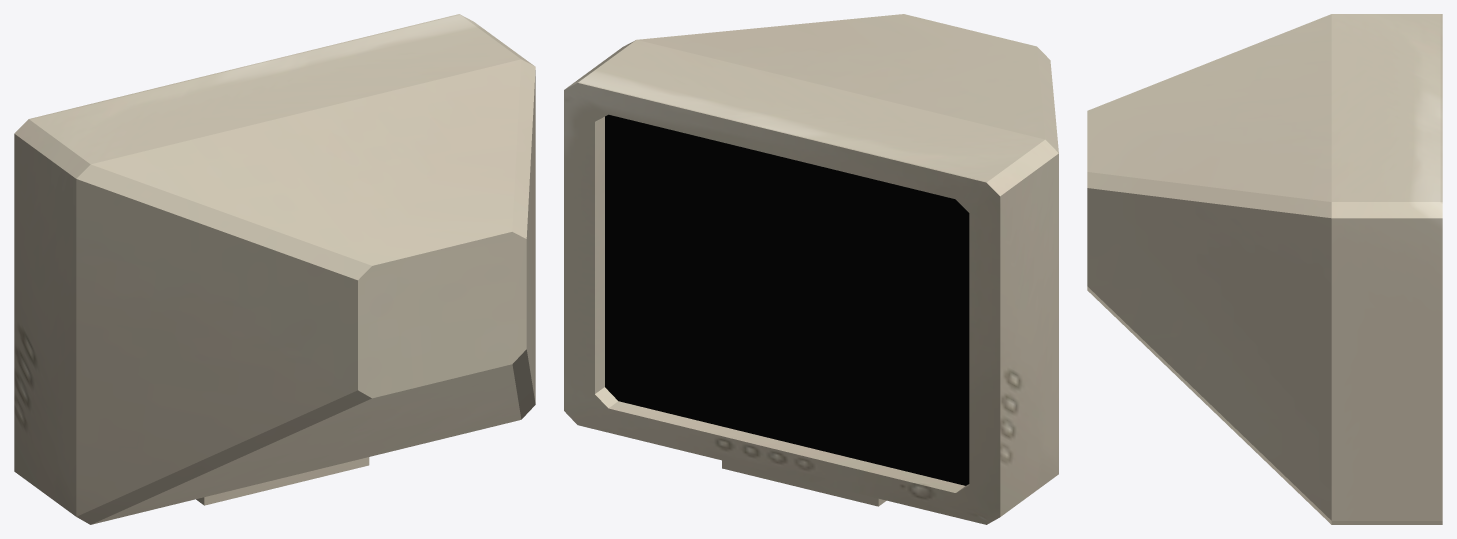
3 views of the same model, side by side, from view 1: azimuth 30°, elevation 25°; view 2: azimuth 150°, elevation 25°; view 3: azimuth 270°, elevation 25° (orthographic). The views are drawn at different scales.
Visible parts, largest first — view 1: Cube.001; view 2: Cube.001; view 3: Cube.001.
Part boxes in pixels (box(x1,y1,x2,y2)): Cube.001: box(14, 14, 535, 524); Cube.001: box(564, 14, 1058, 524); Cube.001: box(1087, 14, 1442, 524).
Bounding box in the file's own units: 197 × 159 × 147.
